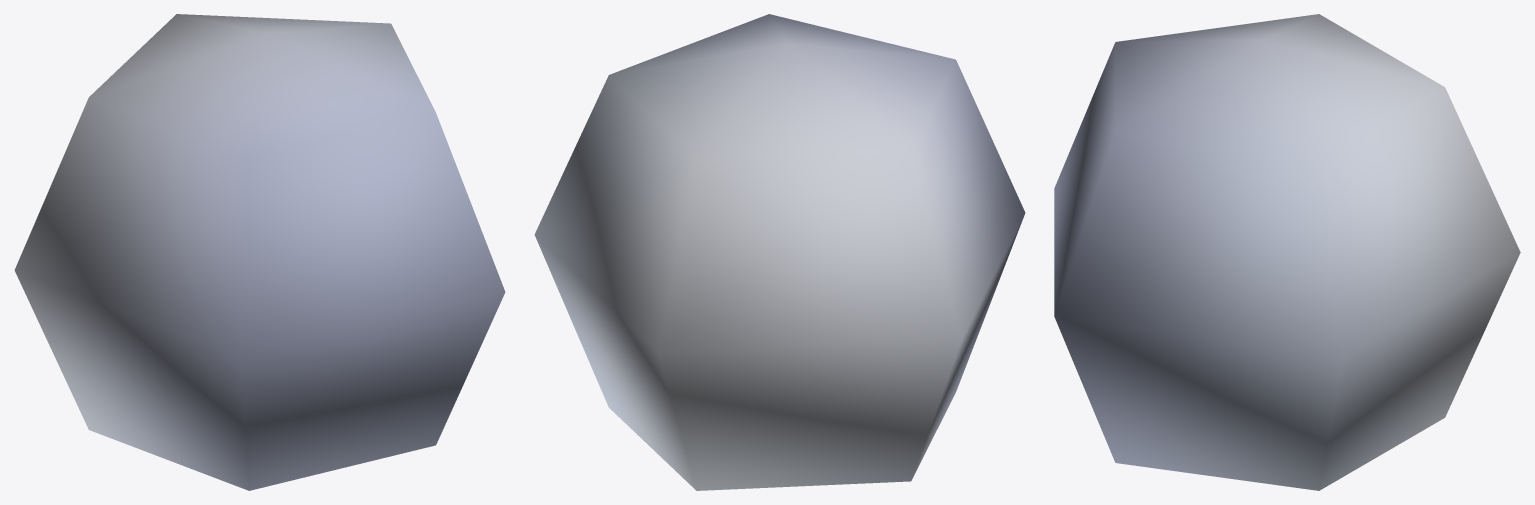
File: Snowball.fbx
3 views of the same model, side by side, from view 1: azimuth 30°, elevation 25°; view 2: azimuth 150°, elevation 25°; view 3: azimuth 270°, elevation 25° (orthographic).
Parts seen in each view (by area): view 1: Snowball; view 2: Snowball; view 3: Snowball.
Part boxes in pixels (<box>): Snowball: <box>14,14,505,490</box>; Snowball: <box>534,14,1025,490</box>; Snowball: <box>1054,14,1520,490</box>.
Bounding box in the file's own units: 17.2 × 16.4 × 16.36.
